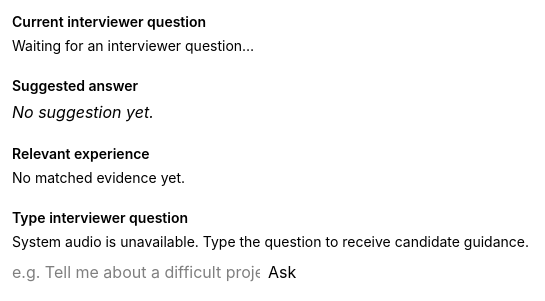
Test: submits a typed interviewer question only when the fallback is enabled
Type " How did you lead the migration? " into the field named "Interviewer question" at [136, 272], box x1=12 y1=260 x2=260 y2=284
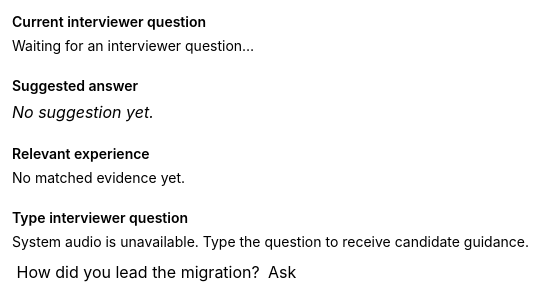
Click the button "Ask" at [282, 272], box x1=268 y1=260 x2=296 y2=284
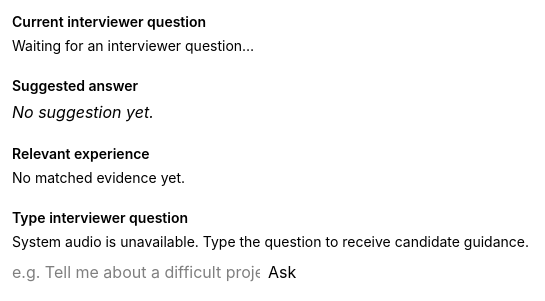
Check: the field named "Interviewer question" is empty, box x1=12 y1=260 x2=260 y2=284
